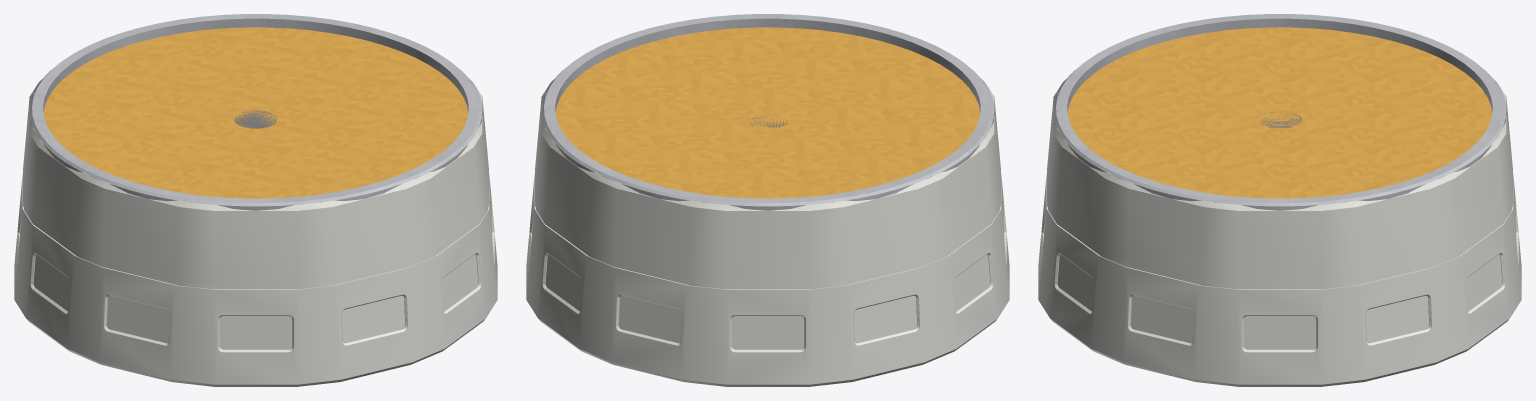
Rendered from ax_prop_20_thrust_structure_l_x3.glb.
3 views of the same model, side by side, from view 1: azimuth 30°, elevation 25°; view 2: azimuth 150°, elevation 25°; view 3: azimuth 270°, elevation 25° (orthographic).
Visible parts, largest first — view 1: skirt, mli_floor, interface_ring, thrust_beams; view 2: skirt, mli_floor, interface_ring; view 3: skirt, mli_floor, interface_ring.
Boxes of the visible parts, left/top/right/bottom form: skirt: left=14, top=78, right=497, bottom=386; mli_floor: left=43, top=27, right=468, bottom=198; interface_ring: left=29, top=14, right=482, bottom=210; thrust_beams: left=234, top=110, right=277, bottom=128; skirt: left=526, top=78, right=1009, bottom=386; mli_floor: left=555, top=27, right=980, bottom=198; interface_ring: left=541, top=14, right=994, bottom=210; skirt: left=1038, top=78, right=1521, bottom=386; mli_floor: left=1067, top=27, right=1492, bottom=198; interface_ring: left=1053, top=14, right=1506, bottom=210.
Bounding box in the file's own units: 4 × 1.62 × 4.
4 materials, 3 textured.
